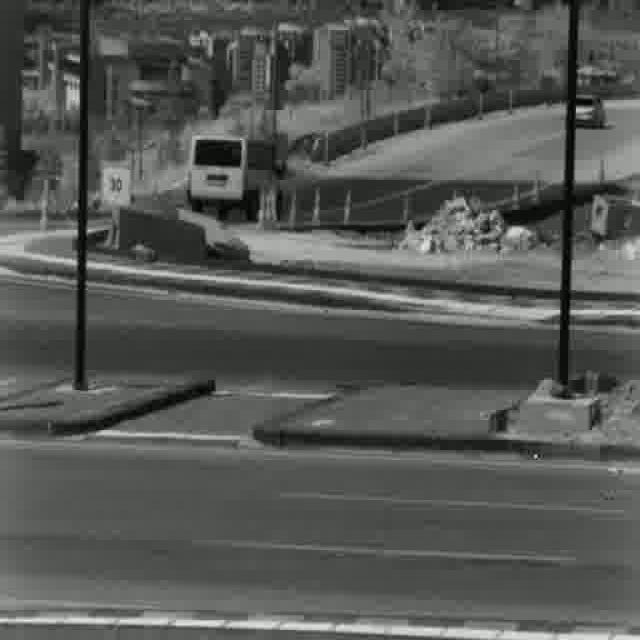Car: (188, 137, 277, 216), (576, 92, 604, 130)
